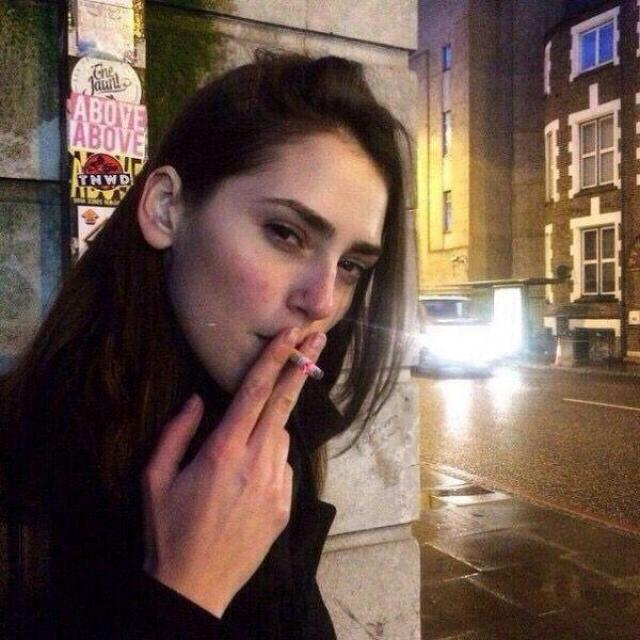cigarette: (250, 319, 335, 384)
